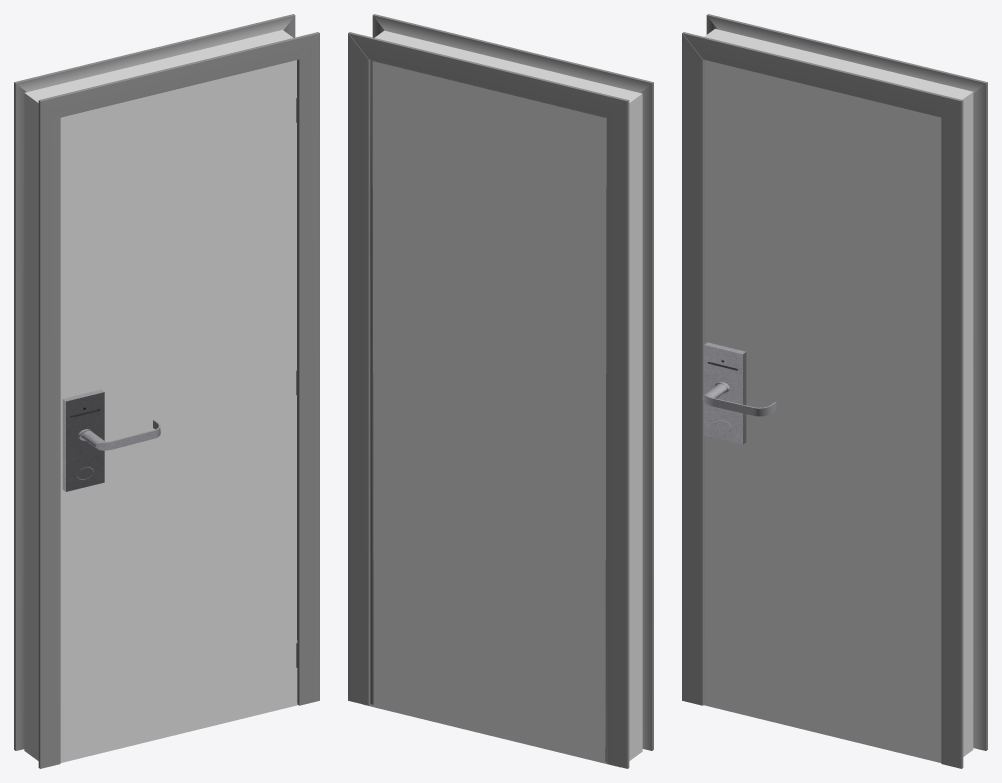
File: hotel_keycard_door_-_white.glb
3 views of the same model, side by side, from view 1: azimuth 30°, elevation 25°; view 2: azimuth 150°, elevation 25°; view 3: azimuth 330°, elevation 25° (orthographic).
Visible parts, largest first — view 1: Cube_7, Cylinder.004_8, obj7_0, obj12_5; view 2: Cube_7, Cylinder.004_8; view 3: Cube_7, Cylinder.004_8, obj7_0, obj12_5.
Part boxes in pixels (bbox=[...]): Cube_7: bbox=[24, 30, 298, 762]; Cylinder.004_8: bbox=[14, 14, 319, 768]; obj7_0: bbox=[62, 389, 104, 491]; obj12_5: bbox=[81, 419, 160, 450]; Cube_7: bbox=[363, 30, 642, 767]; Cylinder.004_8: bbox=[348, 14, 653, 768]; Cube_7: bbox=[703, 29, 973, 762]; Cylinder.004_8: bbox=[682, 14, 987, 768]; obj7_0: bbox=[704, 342, 746, 444]; obj12_5: bbox=[702, 384, 776, 416].
Size of the model in its own units: 0.9672 by 2.21 by 0.2837.
7 materials, 3 textured.
